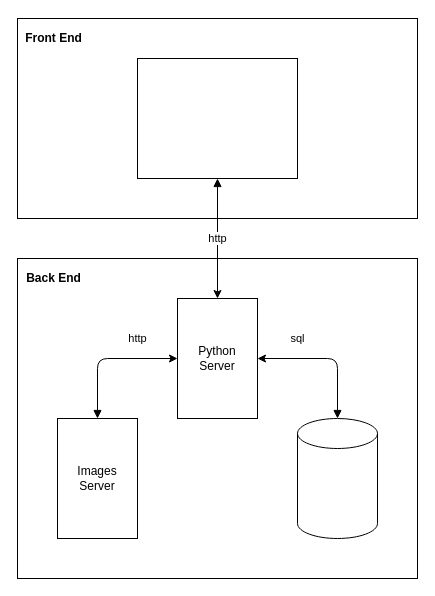
The diagram is 435 pixels wide and 596 high, and some of its shapes have lost their labels. The centre of each missing label's shape, as x and y in pixels:
"Angular App" belongs at point (217, 118).
"Database" belongs at point (337, 478).
